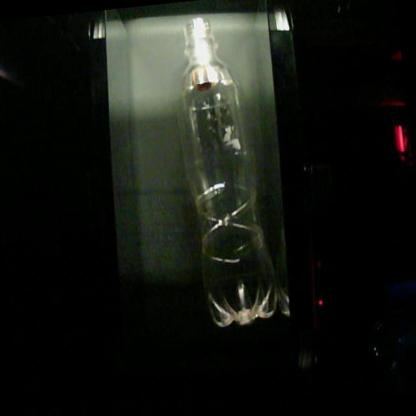Plastic Bottle: (181, 16, 289, 328)
